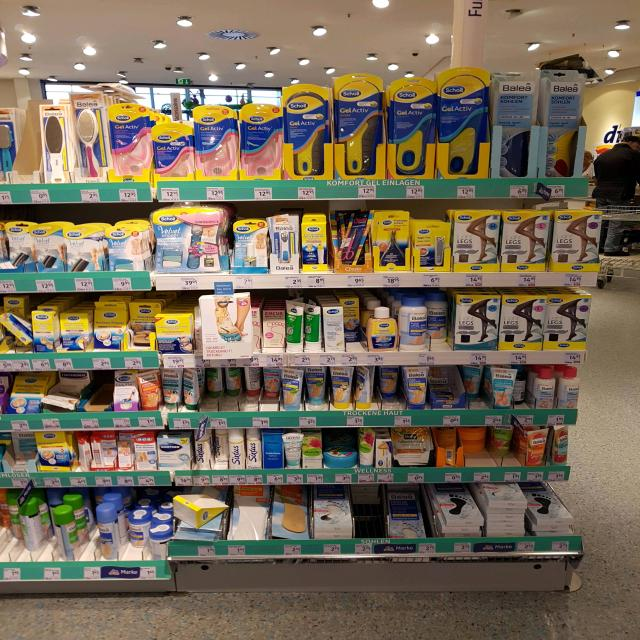unorganised: (1, 489, 171, 563), (282, 364, 534, 411), (425, 483, 573, 537), (138, 367, 282, 411), (461, 425, 570, 466), (170, 489, 230, 542), (284, 299, 321, 352), (93, 297, 129, 351), (34, 431, 76, 472), (398, 296, 428, 350), (354, 486, 384, 537), (5, 219, 34, 271), (75, 433, 116, 469), (260, 303, 286, 356), (1, 311, 30, 354), (46, 379, 82, 411), (130, 304, 155, 350), (343, 301, 366, 350), (6, 435, 36, 469), (427, 304, 450, 348), (437, 428, 461, 468), (324, 430, 356, 456), (192, 431, 213, 469), (358, 428, 375, 469), (213, 432, 229, 468)
